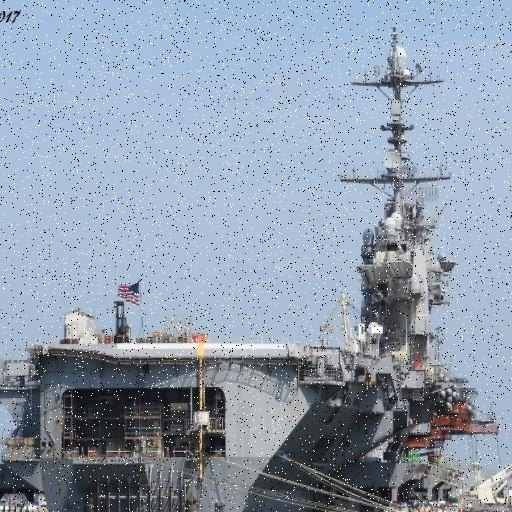Portanaves: (1, 9, 483, 512)
